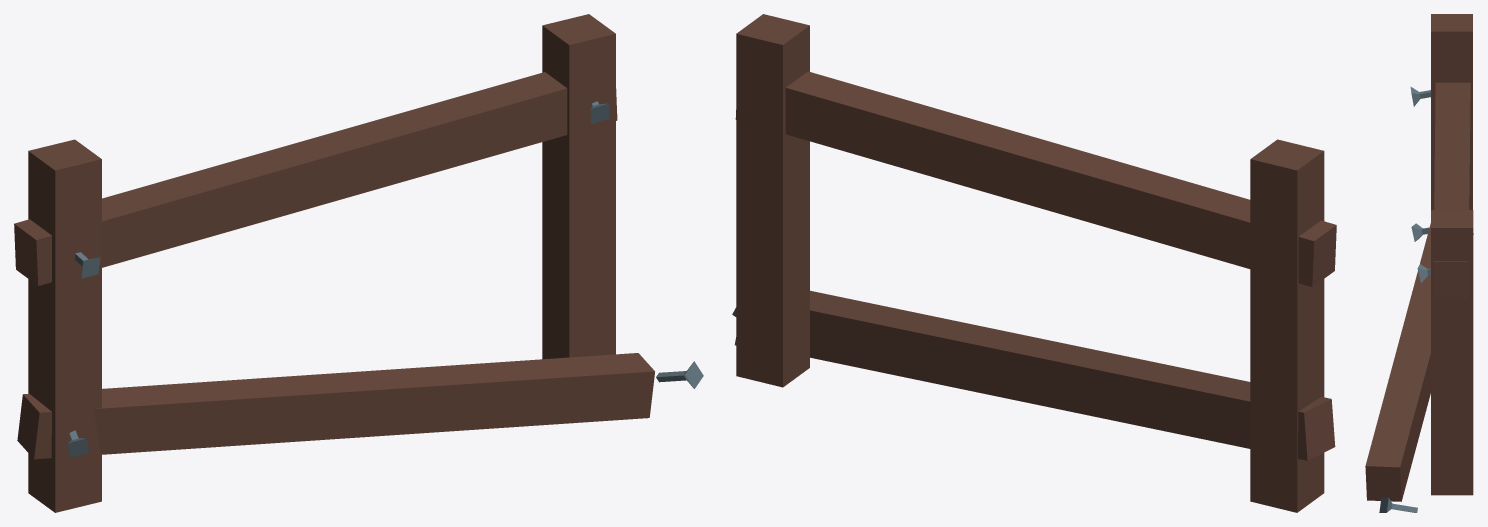
3 renders of one model, left to right at view 1: azimuth 30°, elevation 25°; view 2: azimuth 150°, elevation 25°; view 3: azimuth 270°, elevation 25°, orthographic. The views are drawn at different scales.
Visible parts, largest first — view 1: node_MeshObject836591616-PolyPaper21; view 2: node_MeshObject836591616-PolyPaper21; view 3: node_MeshObject836591616-PolyPaper21.
Part boxes in pixels (<box>): node_MeshObject836591616-PolyPaper21: <box>14,14,703,512</box>; node_MeshObject836591616-PolyPaper21: <box>732,14,1336,512</box>; node_MeshObject836591616-PolyPaper21: <box>1365,14,1473,512</box>.
Size of the model in its own units: 1.09 by 0.5766 by 0.2051.
